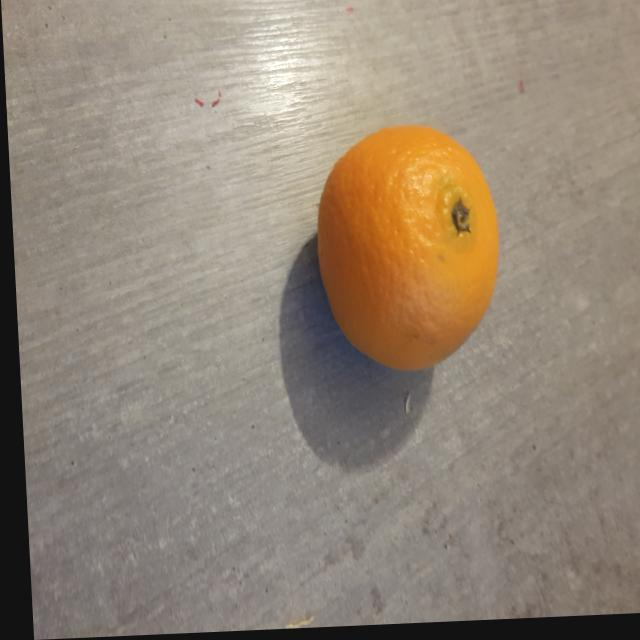Orange: (311, 127, 495, 376)
